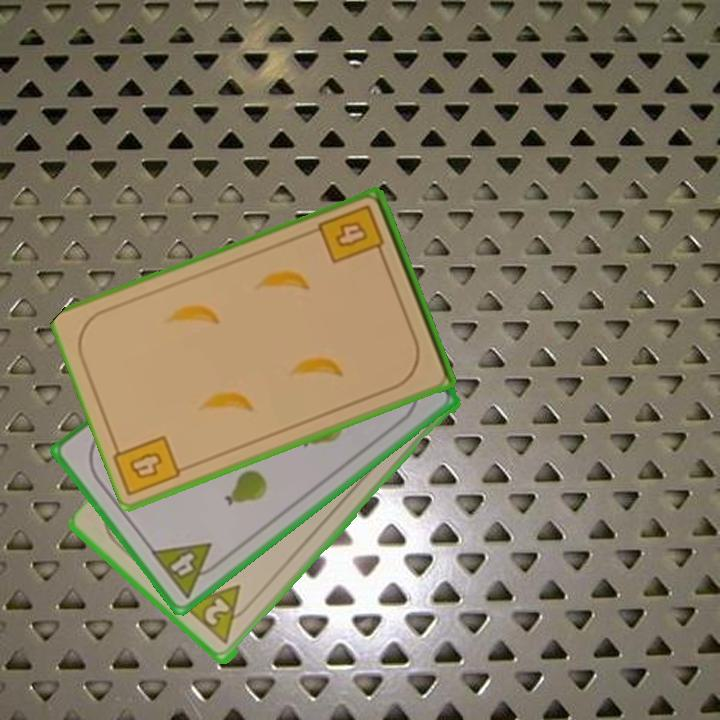2p: (200, 594, 233, 629)
4b: (316, 202, 388, 267), (125, 449, 166, 483)
4p: (147, 539, 227, 601)
